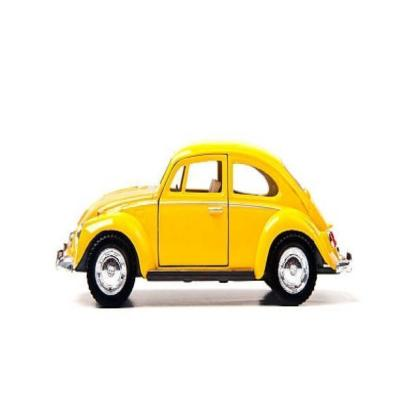car: (59, 142, 355, 312)
